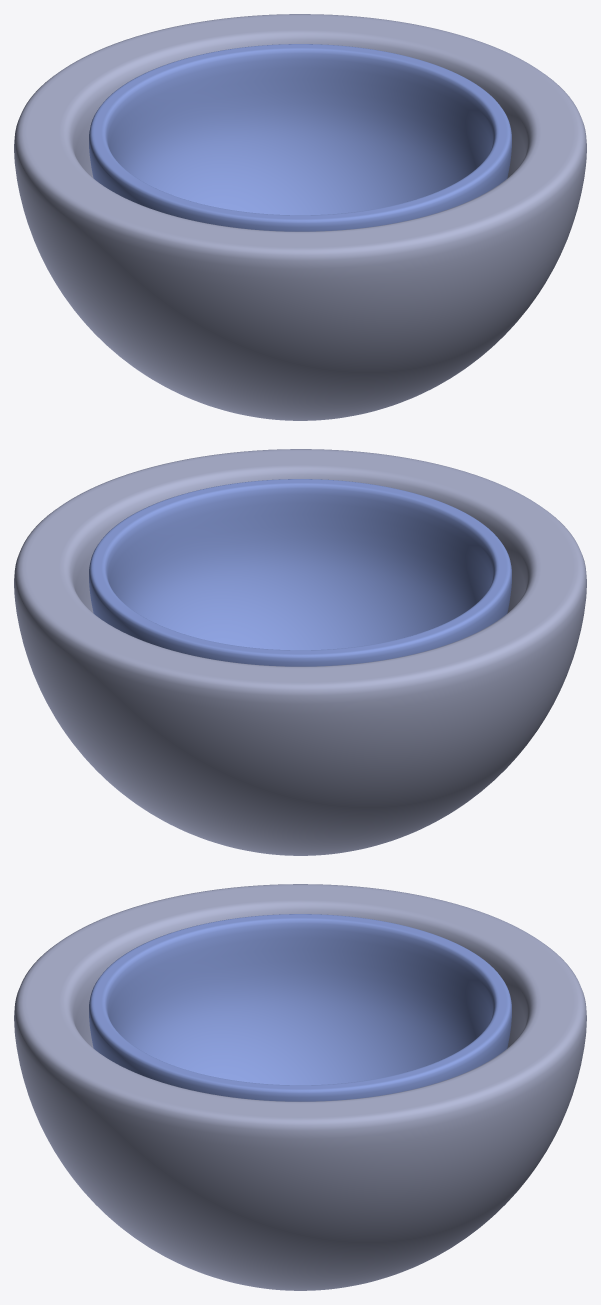
Rendered from atom.fbx.
3 renders of one model, top to bottom at view 1: azimuth 30°, elevation 25°; view 2: azimuth 150°, elevation 25°; view 3: azimuth 270°, elevation 25°, orthographic.
Parts seen in each view (by area): view 1: Sphere, Sphere.001; view 2: Sphere, Sphere.001; view 3: Sphere, Sphere.001.
Boxes of the visible parts, x1,y1,x2,y2 form: Sphere: [14, 14, 586, 420]; Sphere.001: [89, 44, 511, 231]; Sphere: [14, 449, 586, 855]; Sphere.001: [89, 479, 511, 666]; Sphere: [14, 884, 586, 1290]; Sphere.001: [89, 914, 511, 1101].
Size of the model in its own units: 197 by 99.84 by 197.
